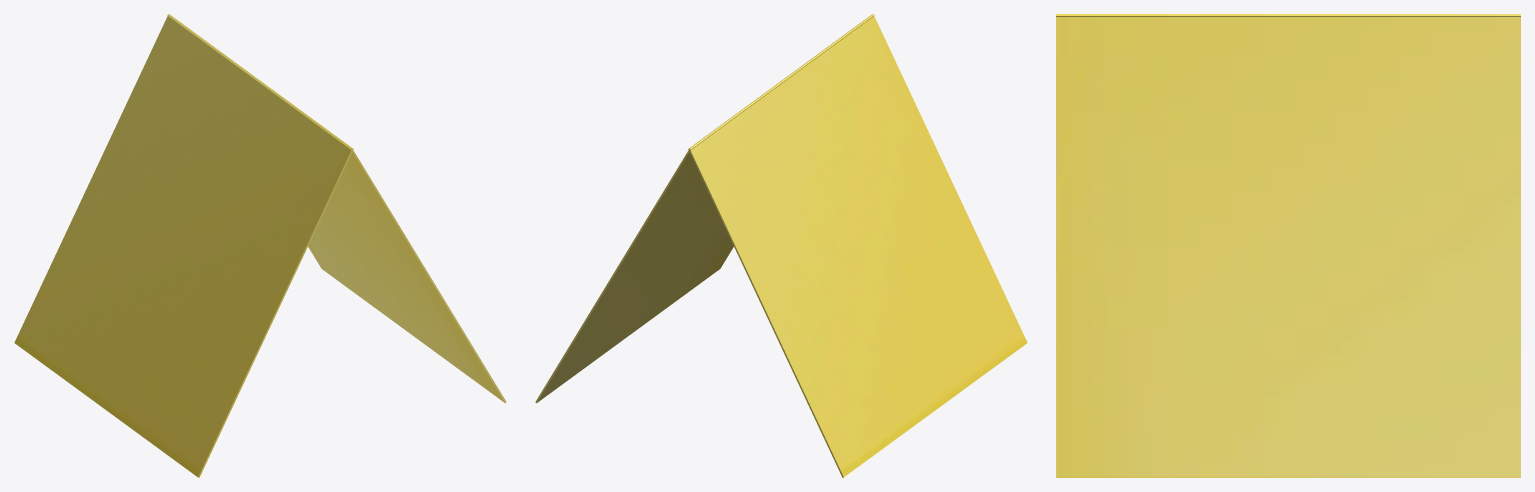
The model's file is Marker.fbx.
3 views of the same model, side by side, from view 1: azimuth 30°, elevation 25°; view 2: azimuth 150°, elevation 25°; view 3: azimuth 270°, elevation 25° (orthographic). The views are drawn at different scales.
Parts seen in each view (by area): view 1: Plane; view 2: Plane; view 3: Plane.
Boxes of the visible parts, <box> form: Plane: <box>14,14,506,477</box>; Plane: <box>535,14,1027,477</box>; Plane: <box>1056,14,1520,477</box>.
Bounding box in the file's own units: 194 × 175 × 200.
